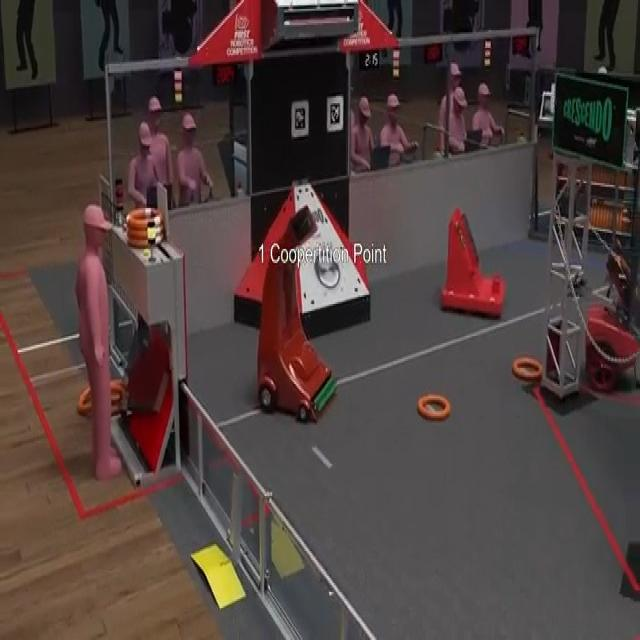notes: (417, 392, 454, 420), (513, 356, 541, 379)
